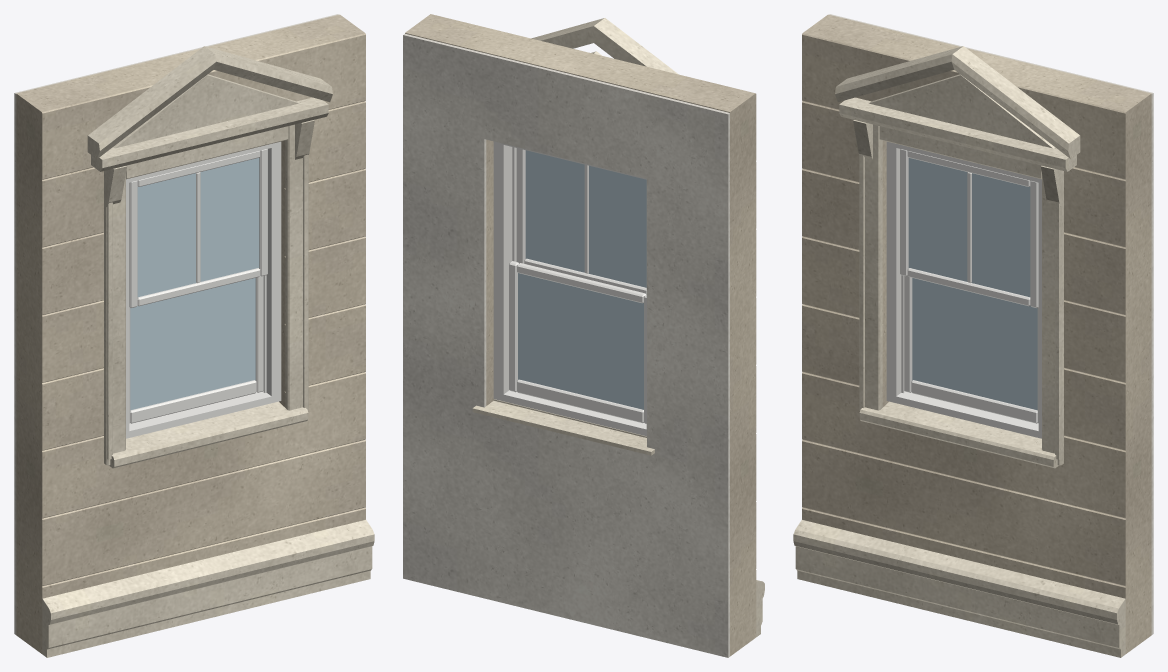
Rendered from pv_u1_window_ped.glb.
3 renders of one model, left to right at view 1: azimuth 30°, elevation 25°; view 2: azimuth 150°, elevation 25°; view 3: azimuth 330°, elevation 25°, orthographic.
Parts seen in each view (by area): view 1: pv_u1_window_ped_ashlar, pv_u1_window_ped_trim, pv_u1_window_ped_glass, pv_u1_window_ped_sash, pv_u1_window_ped_frame, pv_u1_window_ped_plaster; view 2: pv_u1_window_ped_plaster, pv_u1_window_ped_glass, pv_u1_window_ped_ashlar, pv_u1_window_ped_frame, pv_u1_window_ped_sash, pv_u1_window_ped_trim; view 3: pv_u1_window_ped_ashlar, pv_u1_window_ped_trim, pv_u1_window_ped_glass, pv_u1_window_ped_sash, pv_u1_window_ped_frame, pv_u1_window_ped_plaster.
Part boxes in pixels (<box>): pv_u1_window_ped_ashlar: <box>16,14,365,653</box>; pv_u1_window_ped_trim: <box>42,46,374,657</box>; pv_u1_window_ped_glass: <box>130,158,259,410</box>; pv_u1_window_ped_sash: <box>129,149,267,423</box>; pv_u1_window_ped_frame: <box>126,141,281,438</box>; pv_u1_window_ped_plaster: <box>14,14,338,634</box>; pv_u1_window_ped_plaster: <box>403,33,729,657</box>; pv_u1_window_ped_glass: <box>518,150,646,409</box>; pv_u1_window_ped_ashlar: <box>405,14,756,656</box>; pv_u1_window_ped_frame: <box>493,141,646,436</box>; pv_u1_window_ped_sash: <box>509,148,646,423</box>; pv_u1_window_ped_trim: <box>472,18,764,637</box>; pv_u1_window_ped_ashlar: <box>802,14,1151,653</box>; pv_u1_window_ped_trim: <box>793,46,1125,657</box>; pv_u1_window_ped_glass: <box>908,158,1037,410</box>; pv_u1_window_ped_sash: <box>900,149,1038,423</box>; pv_u1_window_ped_frame: <box>886,141,1041,438</box>; pv_u1_window_ped_plaster: <box>829,14,1153,634</box>.
Bounding box in the file's own units: 2 × 3.36 × 0.47.
6 materials, 3 textured.
